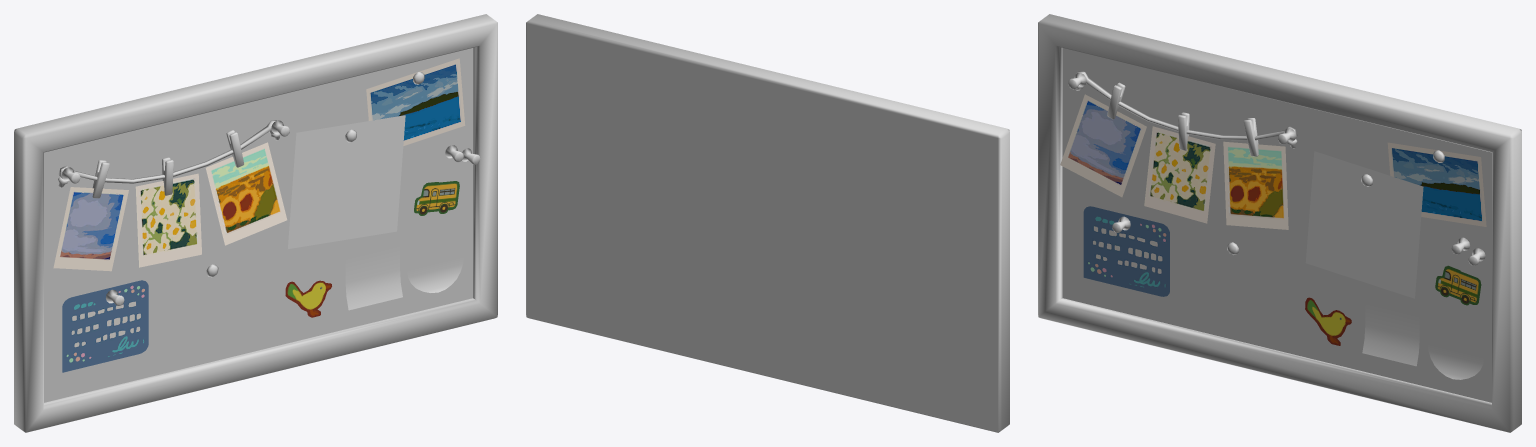
The model's file is CorkBorad.glb.
The picture shows the model from 3 angles, left to right: view 1: azimuth 30°, elevation 25°; view 2: azimuth 150°, elevation 25°; view 3: azimuth 330°, elevation 25°; orthographic projection.
Visible parts, largest first — view 1: board_low__mReBody, picture_low__mBody, mycard_low__mReFabric; view 2: board_low__mReBody; view 3: board_low__mReBody, picture_low__mBody, mycard_low__mReFabric.
Boxes of the visible parts, x1=… form: board_low__mReBody: x1=14, y1=14, x2=497, y2=432; picture_low__mBody: x1=53, y1=58, x2=465, y2=372; mycard_low__mReFabric: x1=288, y1=115, x2=405, y2=248; board_low__mReBody: x1=526, y1=14, x2=1009, y2=432; board_low__mReBody: x1=1038, y1=14, x2=1521, y2=432; picture_low__mBody: x1=1060, y1=94, x2=1486, y2=345; mycard_low__mReFabric: x1=1305, y1=151, x2=1423, y2=298.
Bounding box in the file's own units: 1.56 × 0.9375 × 0.1149.
3 materials, 1 textured.
